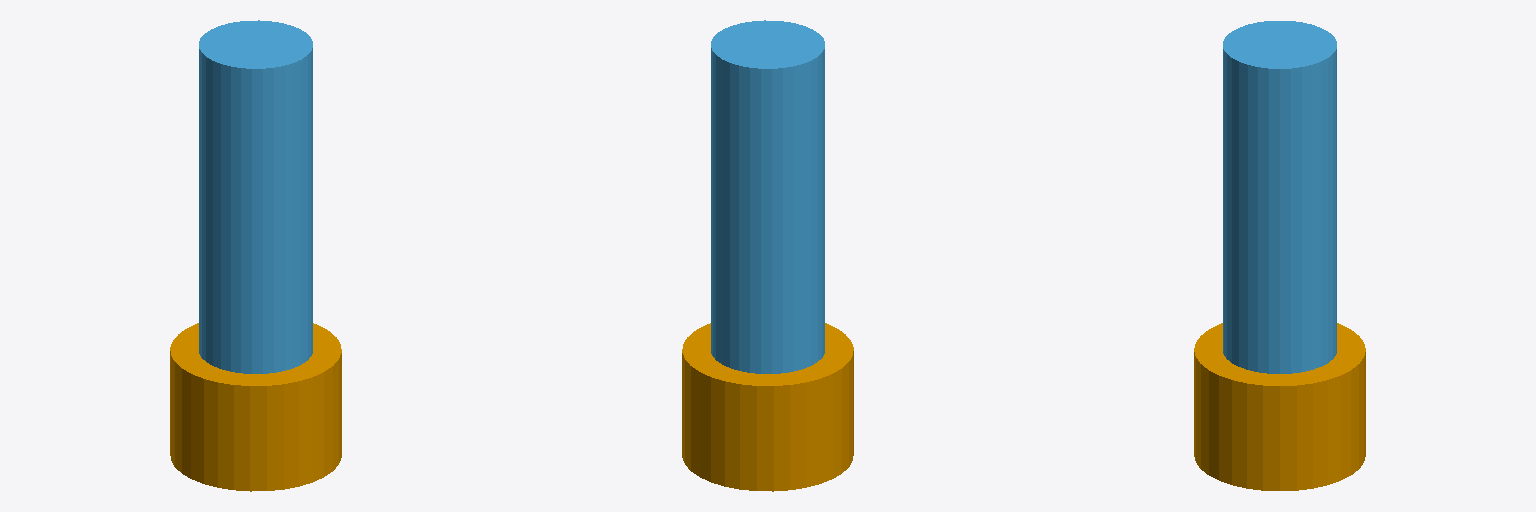
URDF robot description (bolt):
<?xml version="1.0"?>
<robot
  name="bolt">
  <link name="head">
    <visual>
      <geometry>
        <!--<box size="0.019 0.019 0.01285"/>-->
        <cylinder length="0.01285" radius="0.0095" />
      </geometry>
      <origin xyz="0 0 0"/>
    </visual>
    <collision>
      <geometry>
        <!--<box size="0.019 0.019 0.01285"/>-->
        <cylinder length="0.01285" radius="0.0095" />
      </geometry> 
      <origin xyz="0 0 0"/>
    </collision>
    <inertial>
      <mass value="0.1"/>
      <inertia ixx="0.01" ixy="0.0" ixz="0.0" iyy="0.01" iyz="0.0" izz="0.01"/>
      <origin xyz="0 0 0"/>
    </inertial>
  </link>
  <link name="body">
    <visual>
      <geometry>
        <!--<box size="0.0137 0.0137 0.03724"/>-->
        <cylinder length=".03724" radius="0.00635" />
      </geometry>
      <origin xyz="0 0 0"/>
    </visual>
    <collision>
      <geometry>
        <!--<box size="0.0137 0.0137 0.03724"/>-->
        <cylinder length=".03724" radius="0.00635" />
      </geometry>
      <origin xyz="0 0 0"/>
    </collision>
    <inertial>
      <mass value="0.1"/>
      <inertia ixx="0.01" ixy="0.0" ixz="0.0" iyy="0.01" iyz="0.0" izz="0.01"/>
      <origin xyz="0 0 0"/>
    </inertial>
  </link>

  <joint name="head_to_body" type="fixed">
    <parent link="head"/>
    <child link="body"/>
    <!-- 0.01285/2 + 0.03724/2 -->
    <origin rpy="0 0 0" xyz="0 0 0.025045"/>
  </joint>
</robot>

--- What the picture shows (computed from the rendered views, not written in the file) ---
3 views of the same robot in one strip: view 1: azimuth 30°, elevation 25°; view 2: azimuth 150°, elevation 25°; view 3: azimuth 270°, elevation 25° (orthographic).
Robot: bolt — 2 links, 1 joints (1 fixed); root link head; default pose: all joints at 0.
Links seen in each view (by area): view 1: body, head; view 2: body, head; view 3: body, head.
Boxes of the visible links, x1,y1,x2,y2 form: body: (199, 20, 312, 373); head: (170, 323, 341, 491); body: (711, 20, 824, 373); head: (682, 323, 853, 491); body: (1223, 21, 1336, 373); head: (1194, 323, 1365, 490).
Size in the robot's own frame: 0.019 by 0.019 by 0.0501 metres.
Geometry: primitives only (box / cylinder / sphere), no mesh files.